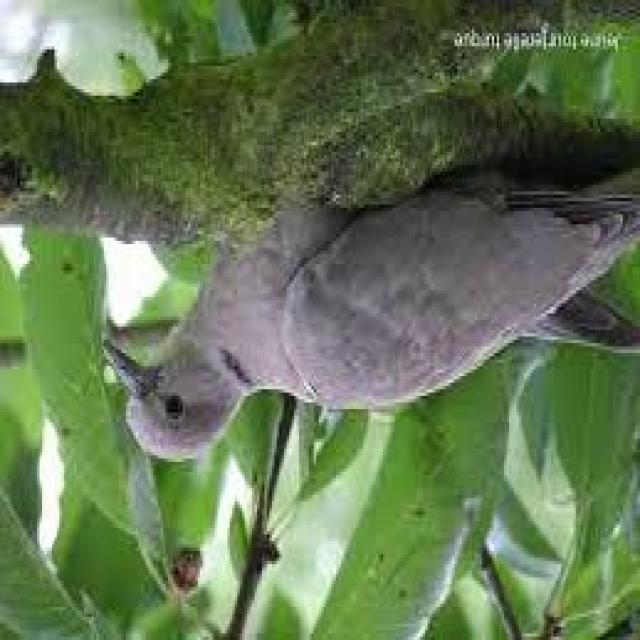pigeon: (94, 182, 640, 490)
